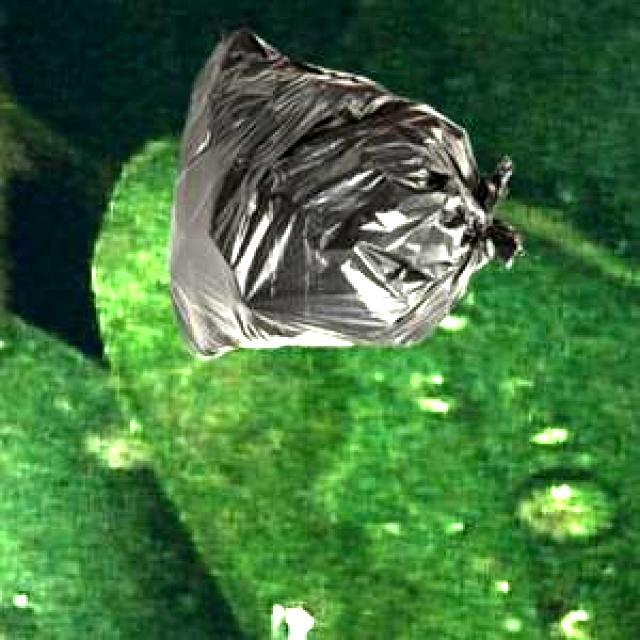Garbage_Bag: (165, 24, 522, 356)
